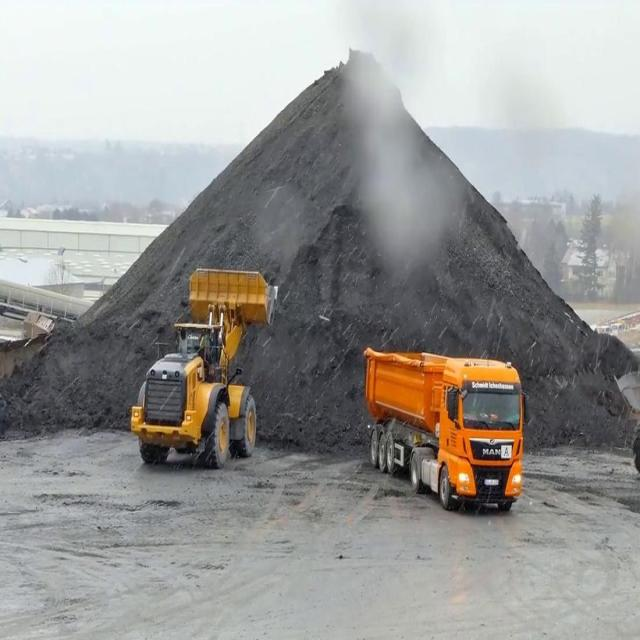buldozerpayloadergrader: (129, 265, 279, 469)
dump_truck: (362, 342, 530, 516)
